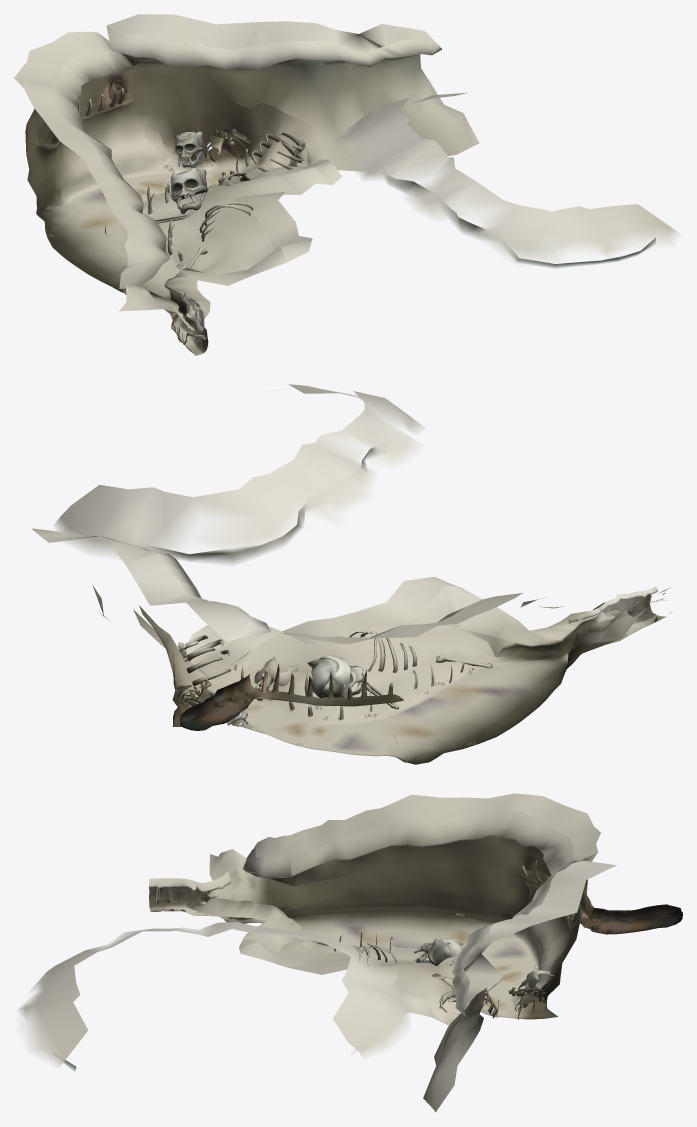
The model's file is 03Field.gltf.
3 renders of one model, top to bottom at view 1: azimuth 30°, elevation 25°; view 2: azimuth 150°, elevation 25°; view 3: azimuth 270°, elevation 25°, orthographic. The views are drawn at different scales.
Parts seen in each view (by area): view 1: stg040_a07_Mesh_0002, stg040_o07_Mesh_0006, stg040_o07_Mesh_0008, stg040_o07_Mesh_0000, stg040_o07_Mesh_0009, stg040_o07_Mesh_0007, stg040_o07_Mesh_0005, stg040_a07_Mesh_0000, stg040_o07_Mesh_0004, stg040_o07_Mesh_0001, stg040_a07_Mesh_0004, stg040_o08_Mesh_0005 (+2 smaller); view 2: stg040_a07_Mesh_0002, stg040_o07_Mesh_0009, stg040_o07_Mesh_0008, stg040_o07_Mesh_0006, stg040_o07_Mesh_0005, stg040_o07_Mesh_0004, stg040_a07_Mesh_0000, stg040_o07_Mesh_0001, stg040_o08_Mesh_0011, stg040_o08_Mesh_0005, stg040_a07_Mesh_0004, stg040_o07_Mesh_0007 (+4 smaller); view 3: stg040_a07_Mesh_0002, stg040_o07_Mesh_0006, stg040_o07_Mesh_0008, stg040_o07_Mesh_0009, stg040_o07_Mesh_0000, stg040_o07_Mesh_0007, stg040_a07_Mesh_0000, stg040_o07_Mesh_0005, stg040_o07_Mesh_0004, stg040_o07_Mesh_0001, stg040_o08_Mesh_0011, stg040_o09_Mesh_0000 (+2 smaller).
Boxes of the visible parts, left/top/right/bottom form: stg040_a07_Mesh_0002: left=50, top=25, right=680, bottom=355; stg040_o07_Mesh_0006: left=26, top=54, right=479, bottom=334; stg040_o07_Mesh_0008: left=14, top=14, right=437, bottom=355; stg040_o07_Mesh_0000: left=49, top=29, right=441, bottom=333; stg040_o07_Mesh_0009: left=37, top=148, right=241, bottom=336; stg040_o07_Mesh_0007: left=25, top=61, right=316, bottom=235; stg040_o07_Mesh_0005: left=36, top=150, right=276, bottom=347; stg040_a07_Mesh_0000: left=33, top=142, right=273, bottom=350; stg040_o07_Mesh_0004: left=180, top=172, right=300, bottom=352; stg040_o07_Mesh_0001: left=155, top=128, right=305, bottom=340; stg040_a07_Mesh_0004: left=105, top=61, right=655, bottom=328; stg040_o08_Mesh_0005: left=199, top=131, right=305, bottom=241; stg040_a07_Mesh_0002: left=54, top=384, right=660, bottom=666; stg040_o07_Mesh_0009: left=173, top=629, right=639, bottom=764; stg040_o07_Mesh_0008: left=32, top=528, right=671, bottom=650; stg040_o07_Mesh_0006: left=92, top=585, right=648, bottom=690; stg040_o07_Mesh_0005: left=180, top=615, right=648, bottom=734; stg040_o07_Mesh_0004: left=237, top=609, right=654, bottom=690; stg040_a07_Mesh_0000: left=174, top=611, right=652, bottom=764; stg040_o07_Mesh_0001: left=175, top=598, right=666, bottom=726; stg040_o08_Mesh_0011: left=179, top=689, right=403, bottom=730; stg040_o08_Mesh_0005: left=174, top=630, right=417, bottom=706; stg040_a07_Mesh_0004: left=150, top=447, right=604, bottom=623; stg040_o07_Mesh_0007: left=163, top=635, right=254, bottom=726; stg040_a07_Mesh_0002: left=17, top=811, right=582, bottom=1067; stg040_o07_Mesh_0006: left=176, top=849, right=581, bottom=1112; stg040_o07_Mesh_0008: left=149, top=793, right=616, bottom=1007; stg040_o07_Mesh_0009: left=184, top=907, right=558, bottom=1019; stg040_o07_Mesh_0000: left=149, top=811, right=597, bottom=1016; stg040_o07_Mesh_0007: left=251, top=836, right=599, bottom=1008; stg040_a07_Mesh_0000: left=156, top=892, right=551, bottom=1019; stg040_o07_Mesh_0005: left=187, top=898, right=547, bottom=1017; stg040_o07_Mesh_0004: left=149, top=901, right=453, bottom=1000; stg040_o07_Mesh_0001: left=154, top=888, right=553, bottom=1012; stg040_o08_Mesh_0011: left=521, top=869, right=682, bottom=934; stg040_o09_Mesh_0000: left=581, top=904, right=682, bottom=932.
Size of the model in its own units: 346 by 87.89 by 424.
